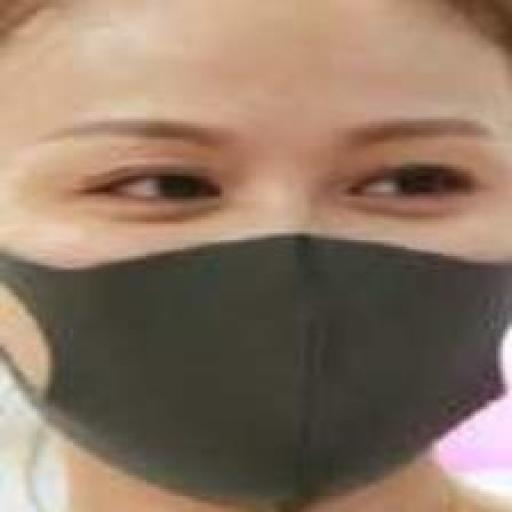mask: (0, 226, 512, 506)
